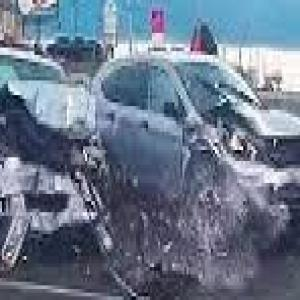moderate: (0, 26, 300, 264)
